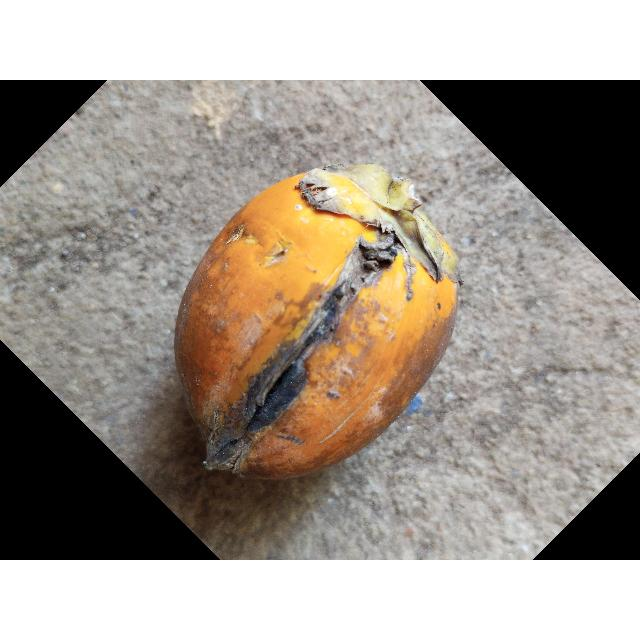damaged: (175, 164, 459, 478)
